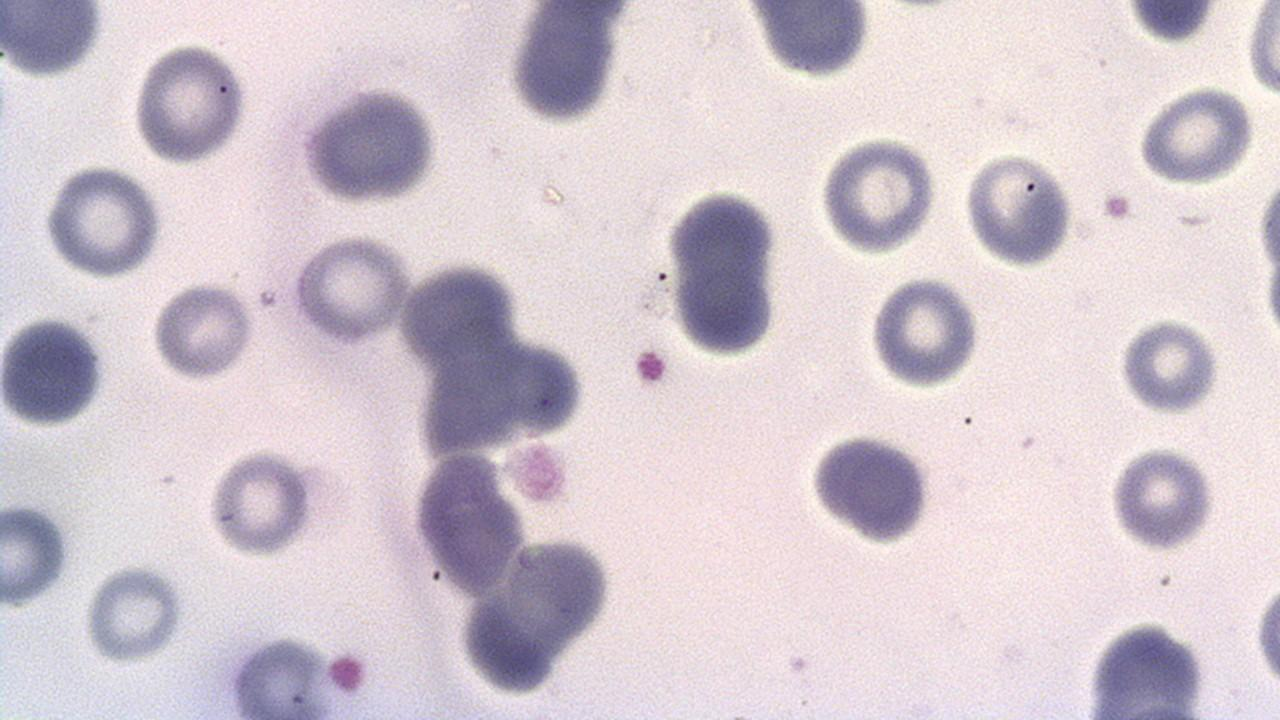Platelets: (289, 82, 441, 210), (803, 428, 937, 552), (1105, 446, 1215, 554), (80, 560, 192, 666), (1120, 320, 1228, 415), (746, 2, 873, 82), (0, 499, 72, 612), (1124, 2, 1216, 46), (632, 344, 670, 390), (1099, 191, 1135, 222)
RBC: (129, 37, 248, 167), (41, 162, 166, 280), (288, 231, 416, 344), (823, 133, 938, 256), (204, 444, 325, 558), (960, 149, 1075, 268), (869, 273, 980, 391), (1133, 82, 1257, 186), (80, 560, 190, 670), (1108, 443, 1216, 554), (146, 278, 260, 382), (1115, 313, 1223, 418), (0, 1, 110, 82), (1250, 548, 1280, 712), (1245, 1, 1279, 103)
WBC: (0, 0, 646, 720), (662, 182, 787, 359), (297, 80, 444, 208), (502, 1, 631, 128), (806, 425, 936, 548), (1075, 619, 1217, 718), (0, 309, 113, 432), (744, 6, 876, 78), (0, 2, 113, 80), (1253, 121, 1280, 375), (1247, 537, 1280, 708), (1124, 2, 1220, 44)
